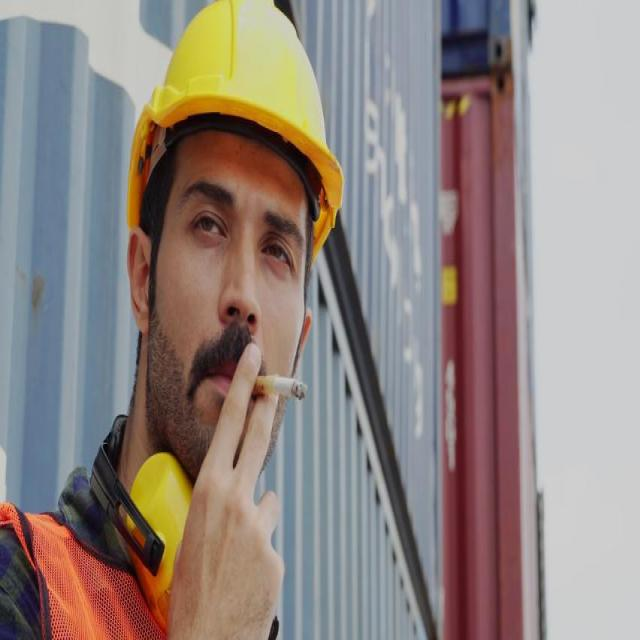smoke: (231, 337, 314, 448)
